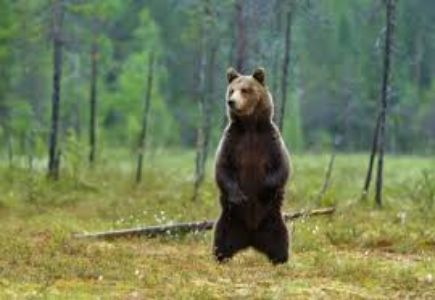bear: (203, 54, 305, 264)
